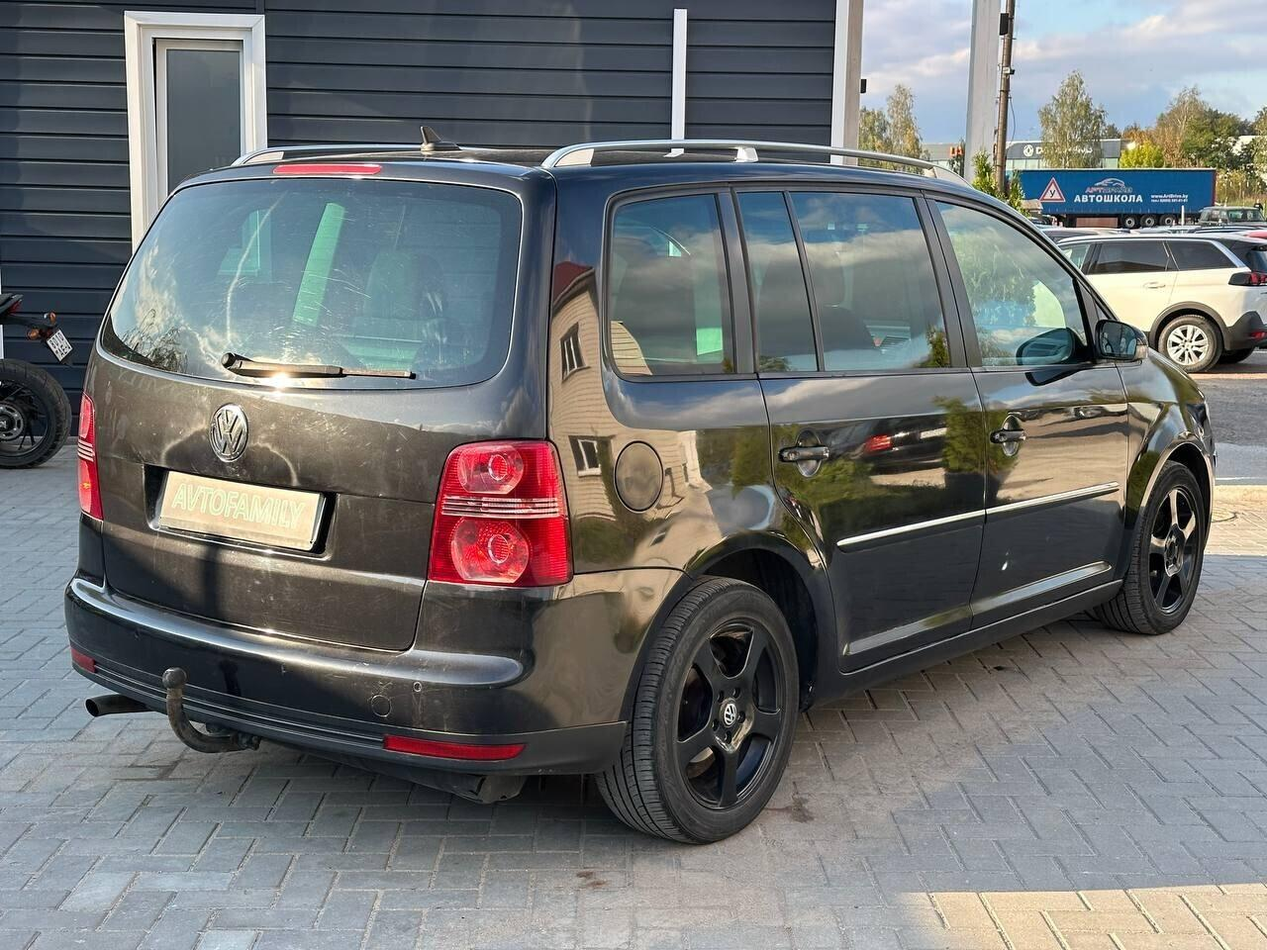Touran_2006-2010: (62, 141, 1218, 844)
